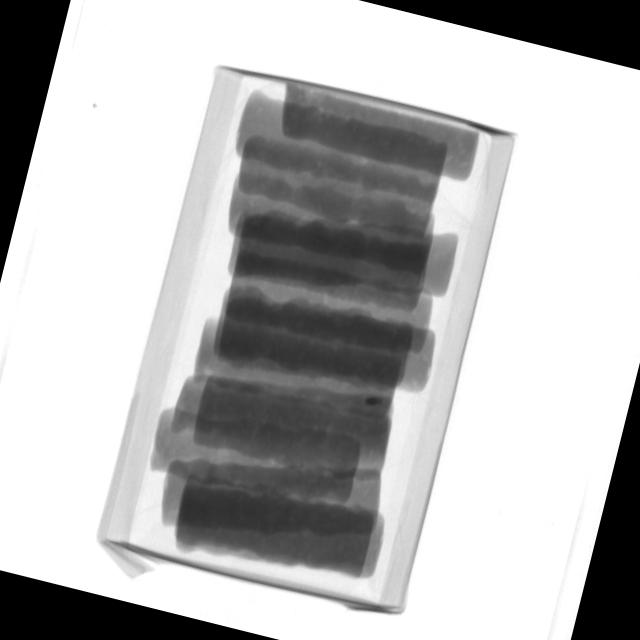ym: (366, 397, 381, 409)
